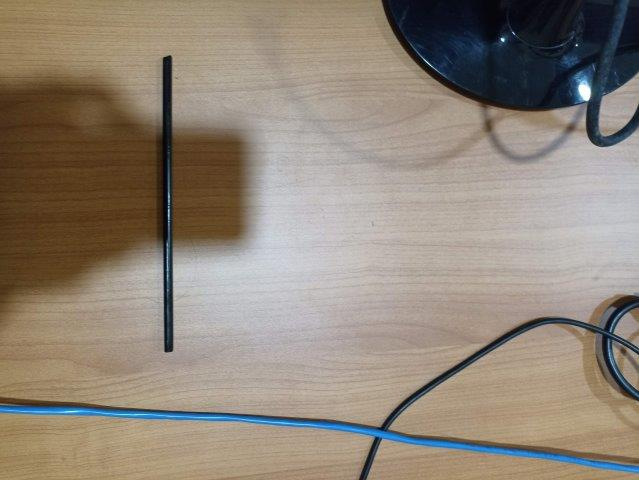sedotan: (163, 56, 174, 353)
